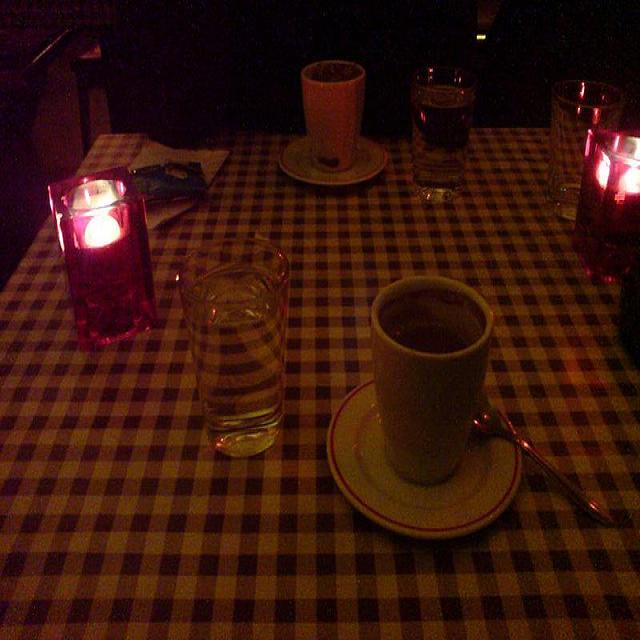Cup: (342, 263, 512, 545), (187, 225, 289, 482), (277, 39, 380, 222), (546, 66, 625, 223), (409, 57, 466, 215)
Table: (9, 52, 640, 640)
